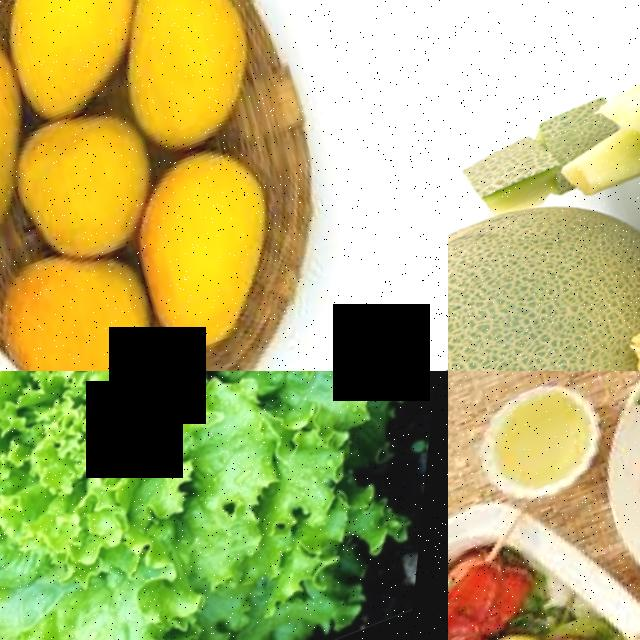lemon: (458, 622, 561, 640)
lettuce: (0, 371, 448, 640)
mango: (134, 133, 321, 364), (0, 93, 179, 275), (0, 232, 193, 371), (118, 0, 287, 157), (0, 0, 159, 133), (0, 11, 56, 266)
melon: (448, 176, 640, 371)
